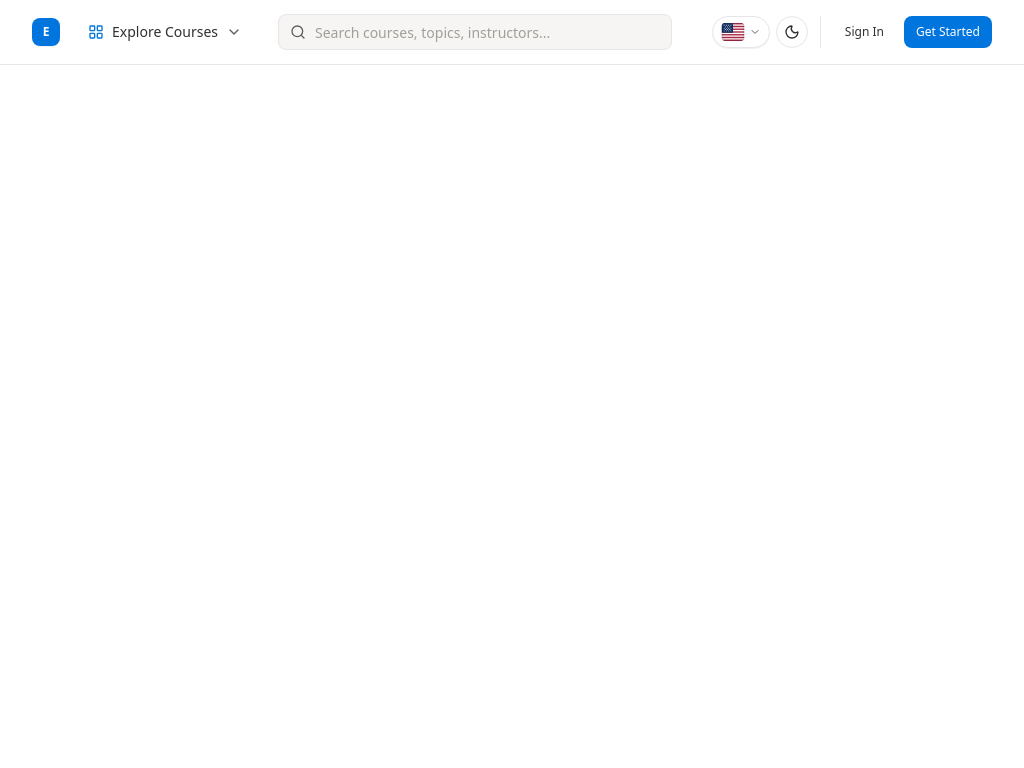
it: Header Navigation › opens Explore popover on click and lists categories with course counts
Click the button with aria-label "Explore course categories". click: [165, 32]
box: [76, 14, 254, 50]
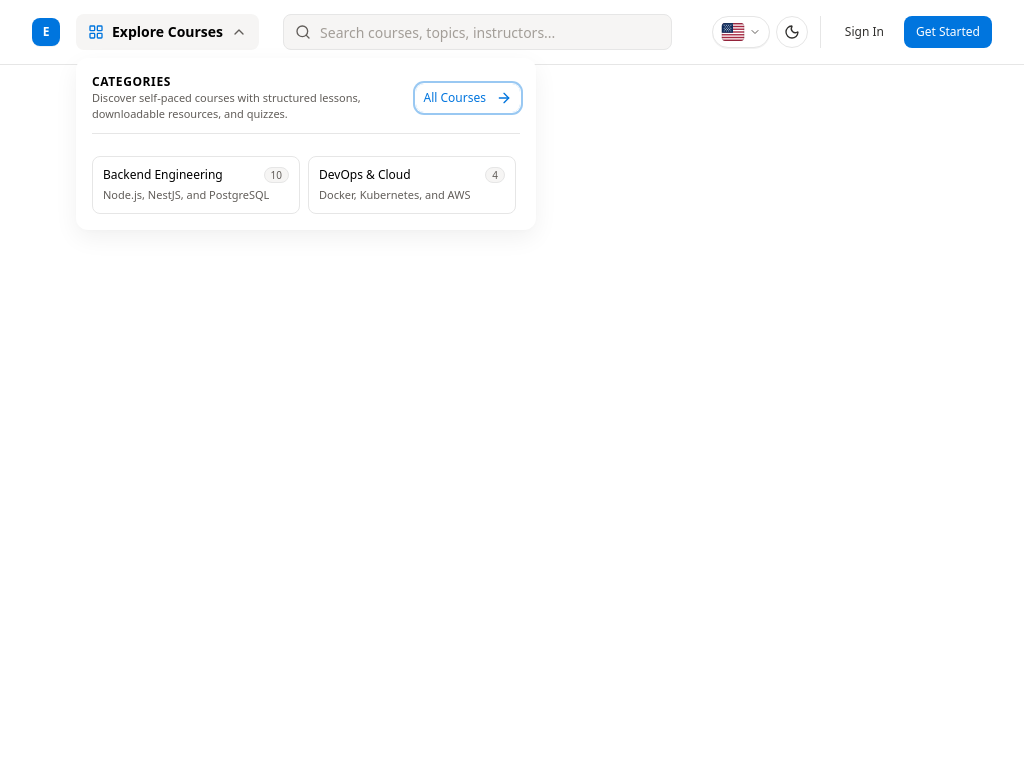
Result: the heading "Categories" is shown at [92, 73, 171, 90]
Result: the text "Backend Engineering" is shown at [103, 167, 223, 183]
Result: the text "10" is shown at [264, 167, 289, 183]
